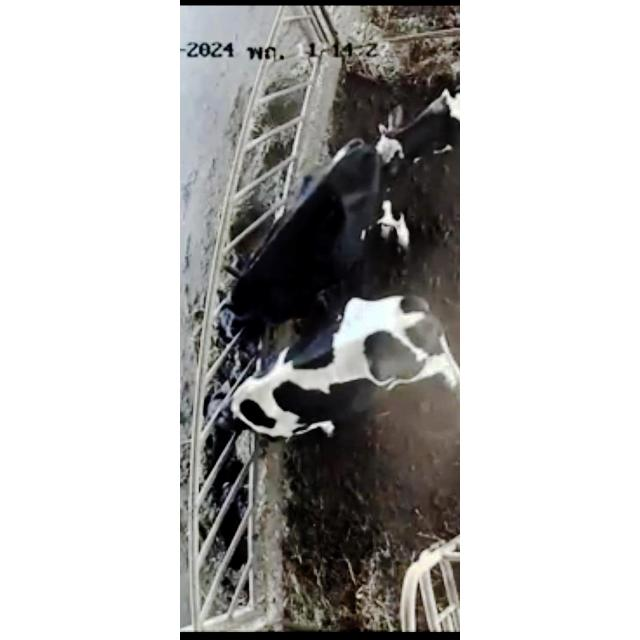eat: (180, 365, 292, 441), (185, 260, 278, 346)
